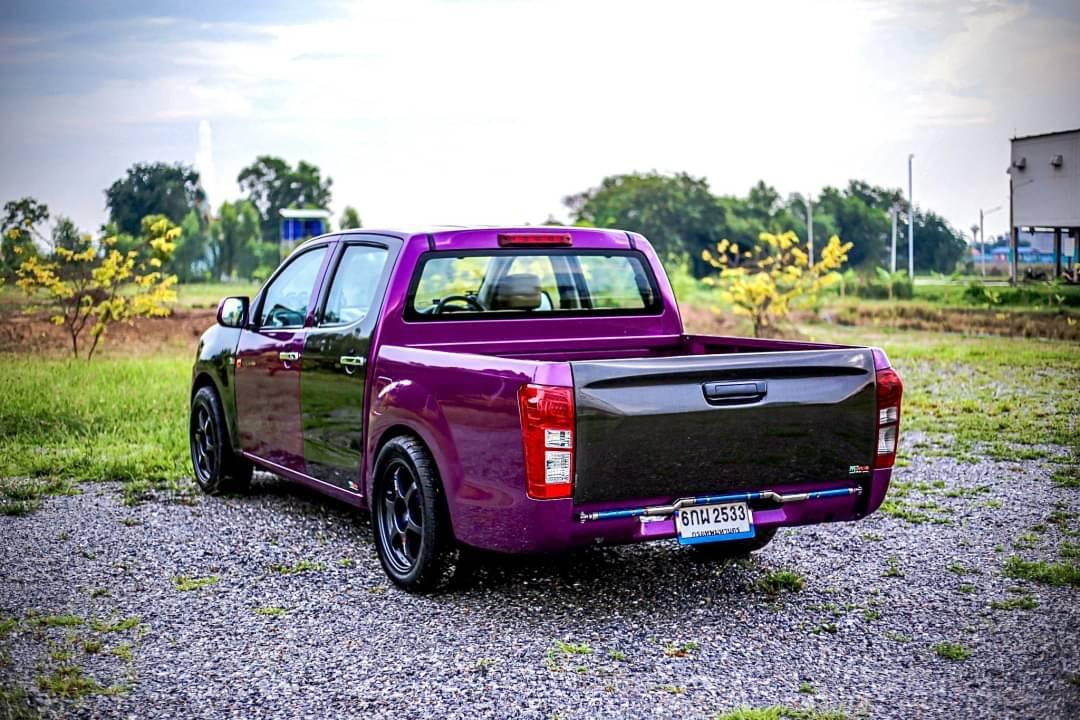license-plate: (665, 497, 765, 554)
